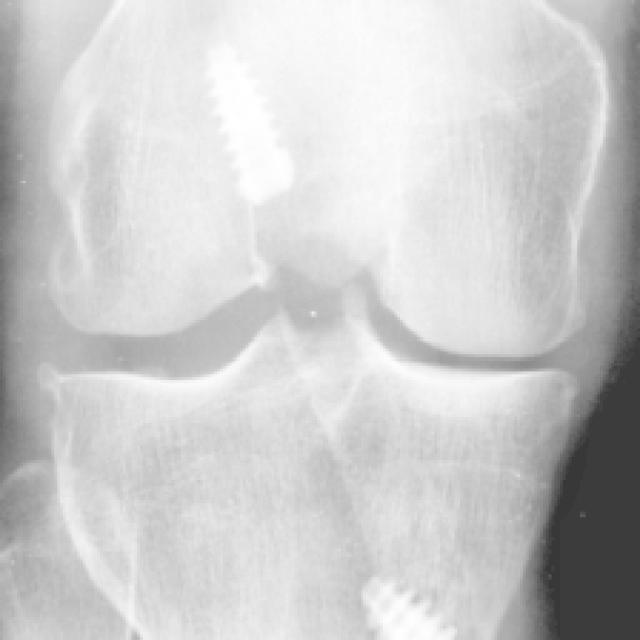femur: (44, 0, 611, 358)
tibia: (35, 306, 580, 640)
